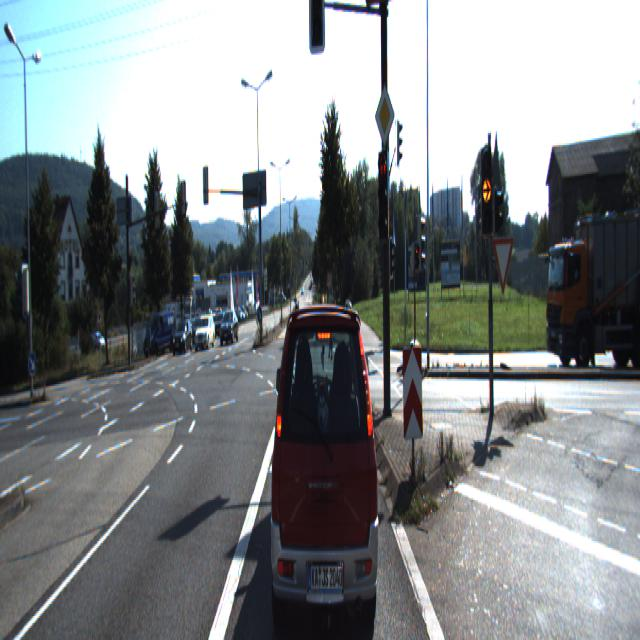Car: (267, 282, 382, 638), (546, 214, 640, 370), (142, 310, 176, 362), (195, 316, 215, 350), (173, 321, 193, 355), (219, 308, 239, 342)
